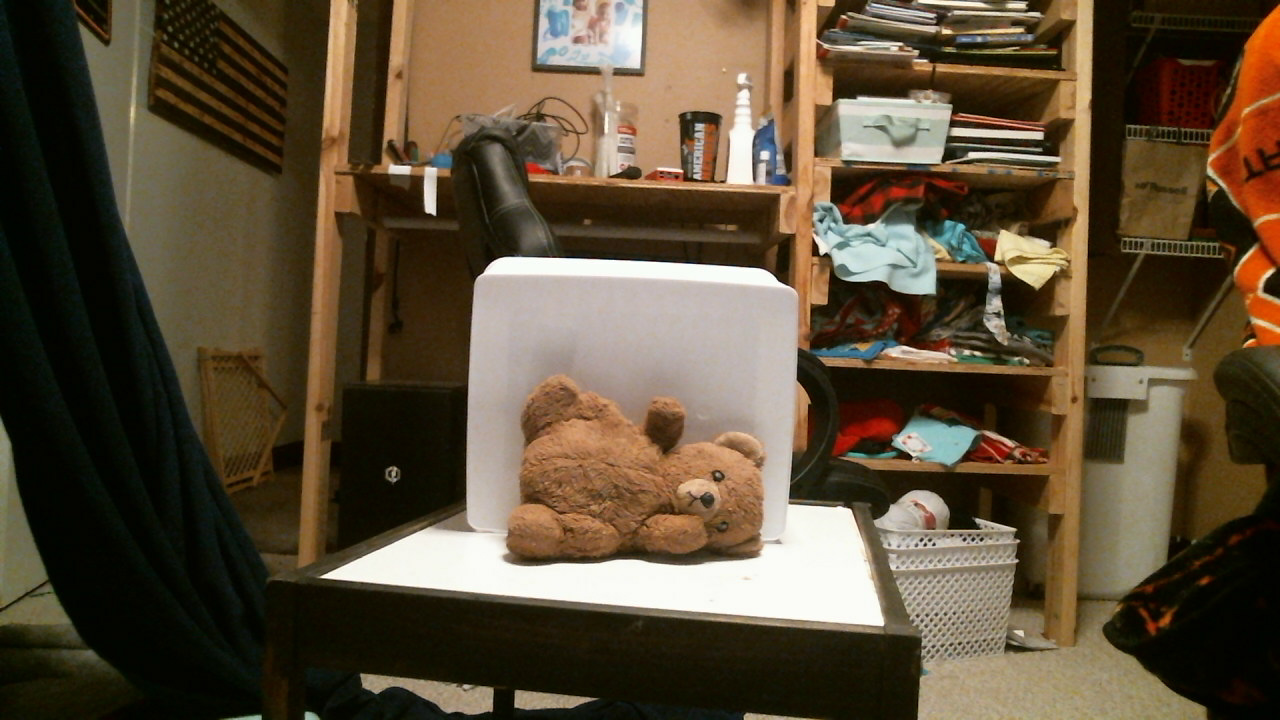Little_Mister_Bear: (675, 472, 750, 532)
